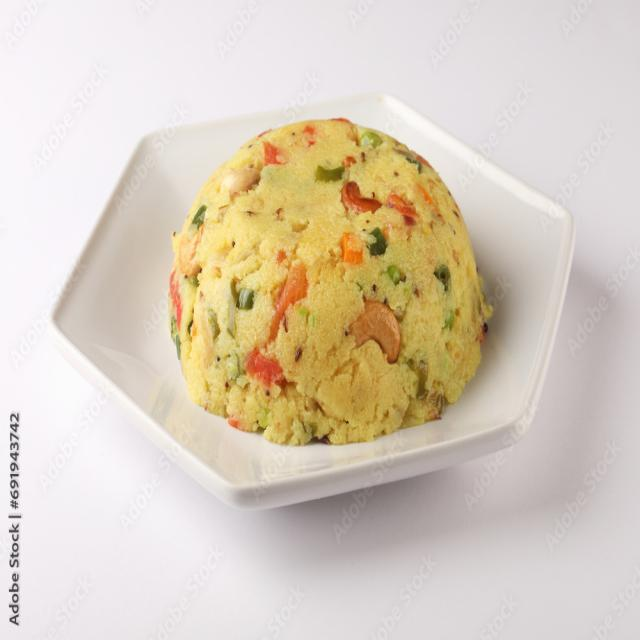UPMA: (171, 116, 494, 454)
